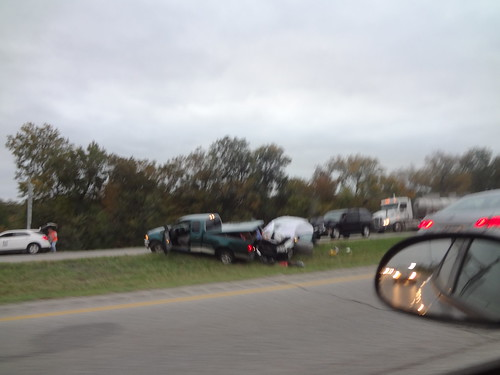car: (149, 213, 259, 261), (255, 214, 308, 260), (312, 205, 374, 241), (1, 221, 60, 255)
sky: (1, 1, 487, 144)
street: (16, 260, 500, 375)
vegetation: (21, 133, 494, 212)
